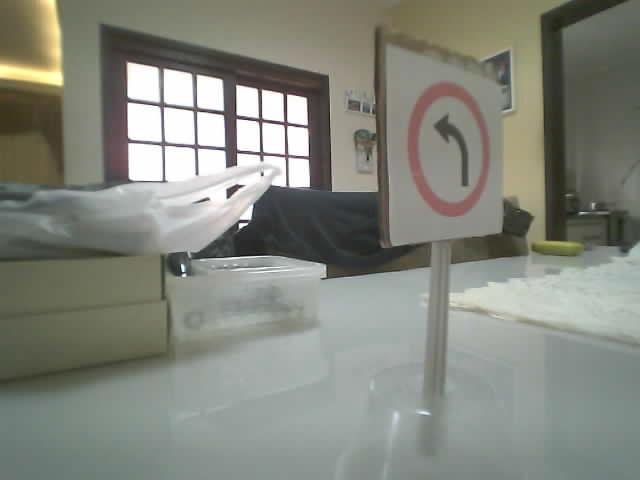R-25a_esquerda: (406, 81, 489, 217)
